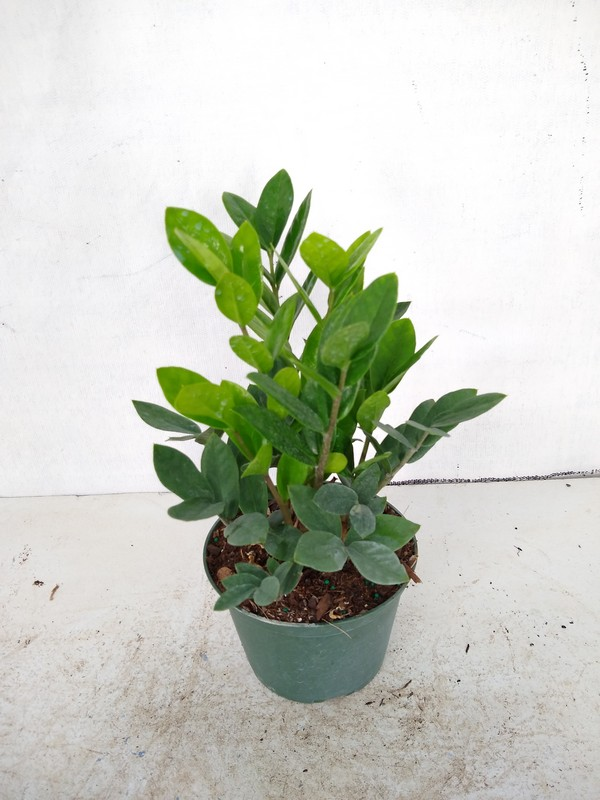plant: (129, 167, 509, 594)
pot: (199, 506, 421, 708)
